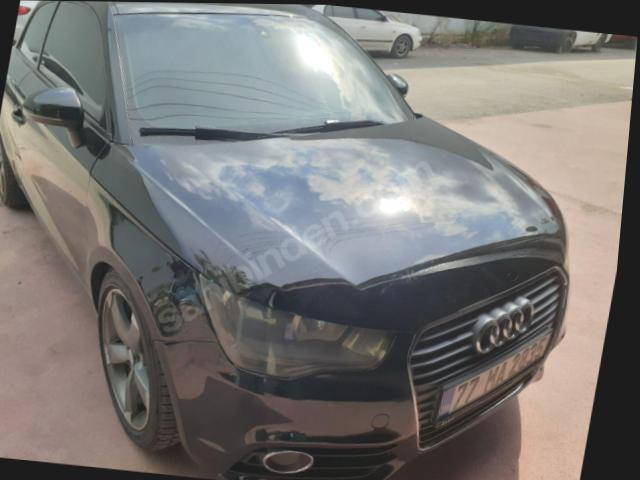plaka: (438, 334, 549, 416)
